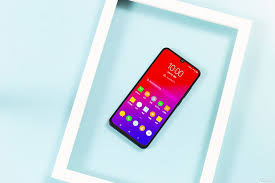lenovo: (109, 42, 200, 149)
